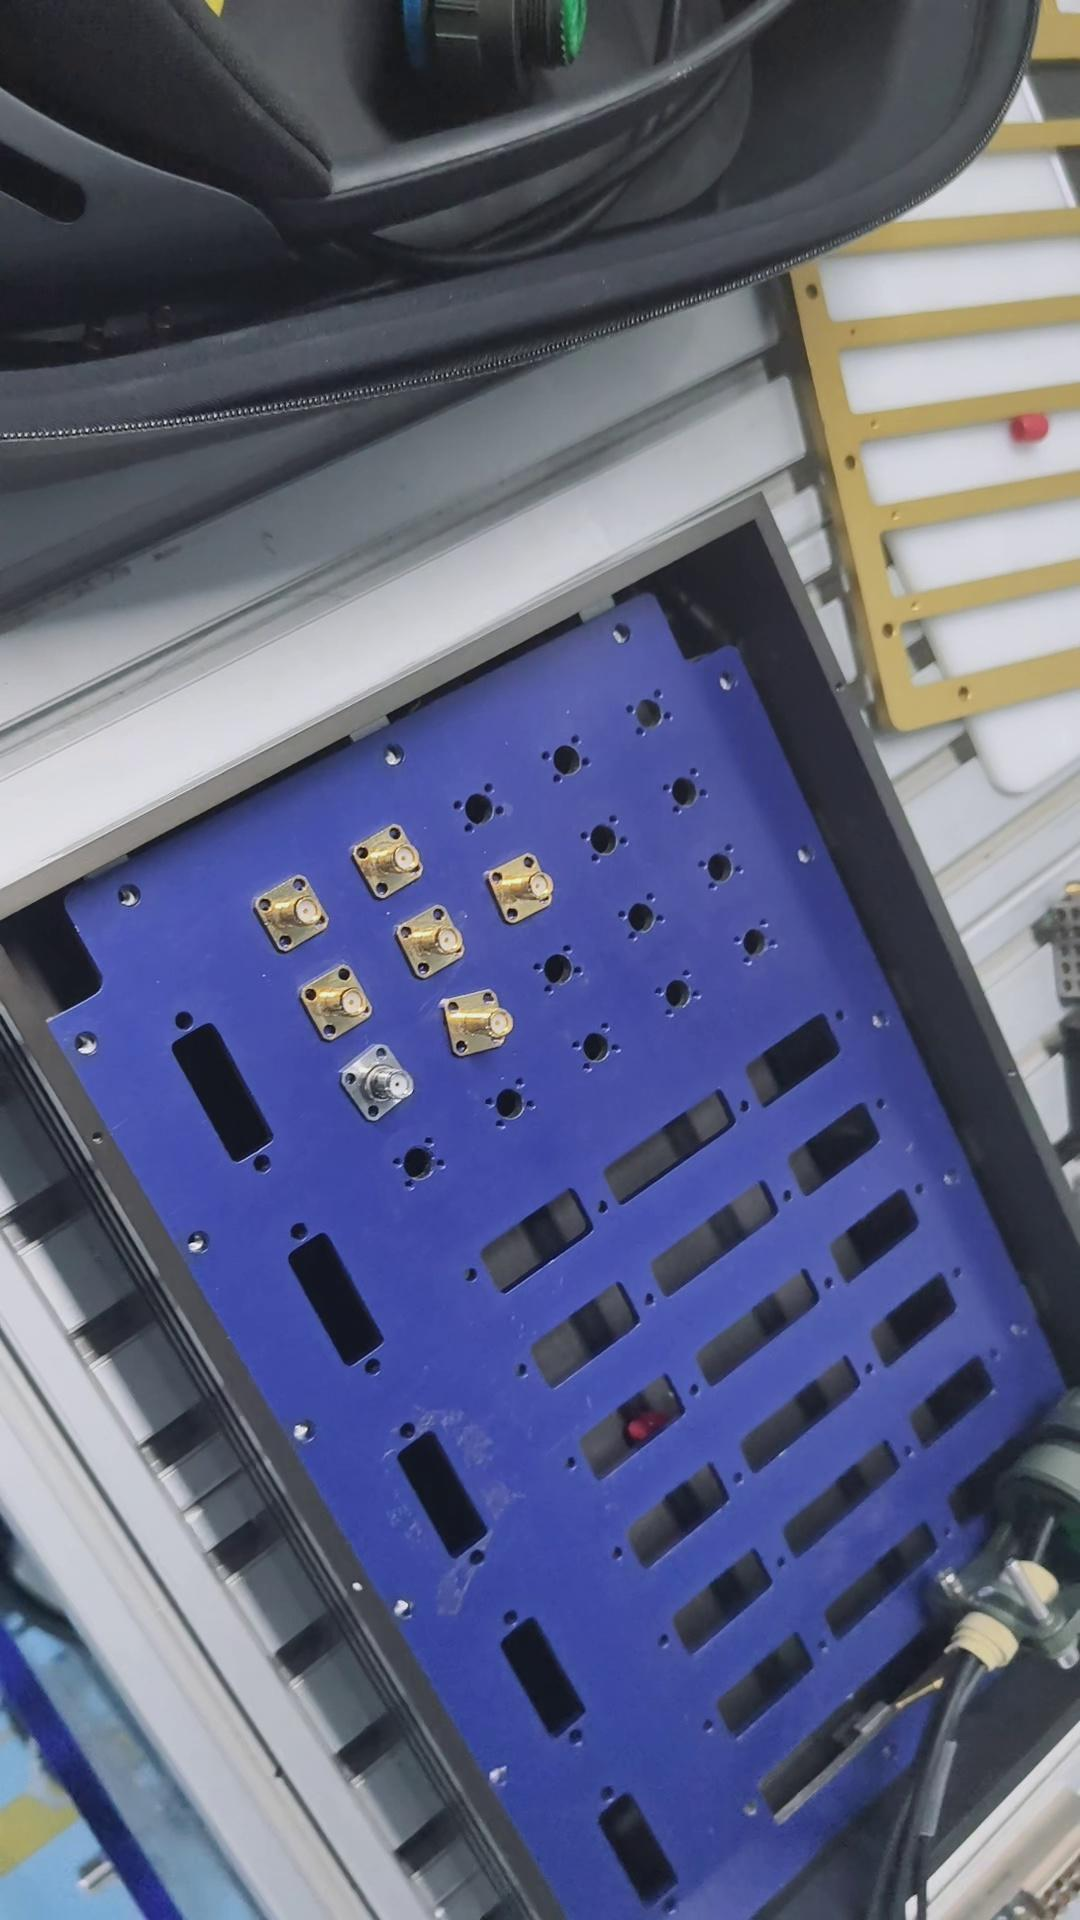SMA: (339, 1040, 421, 1120), (389, 902, 471, 980), (481, 851, 560, 928), (297, 964, 377, 1038), (444, 984, 521, 1060), (253, 878, 335, 949), (355, 820, 429, 898)
